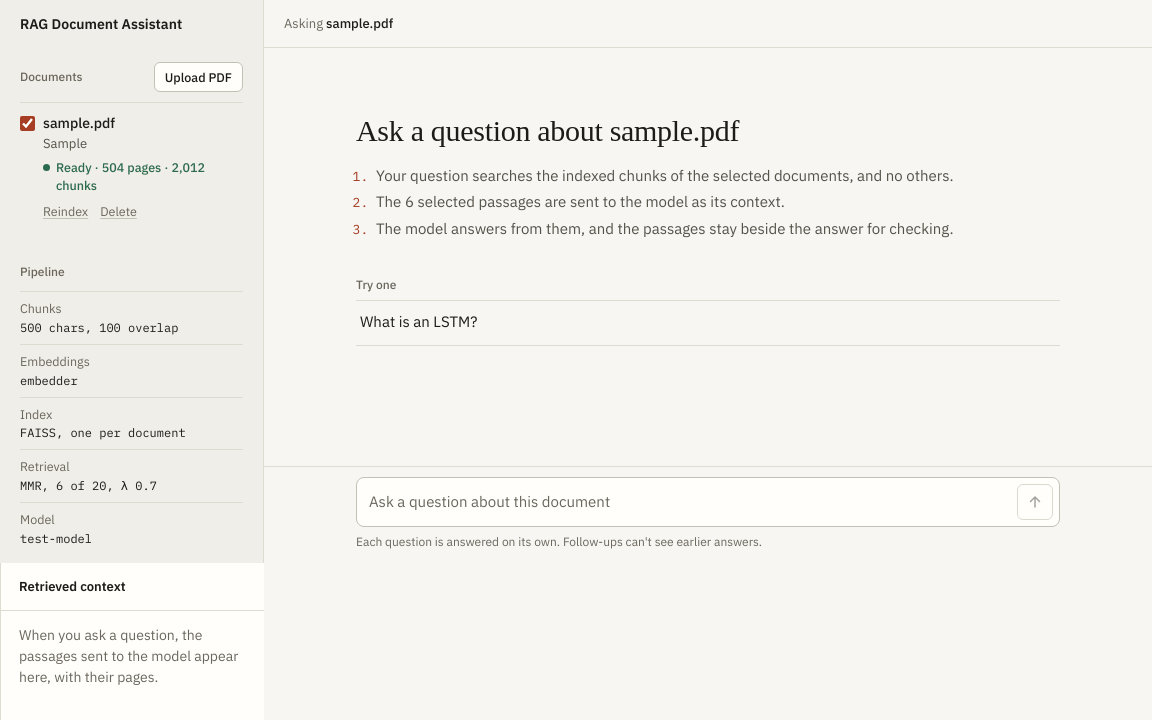
Test case: App › presents the refusal as not found, with the closest passages
Type "What does it do?" into the text box named "Question about the document" at (689, 502), box [369,484,1009,520]
Then press Enter
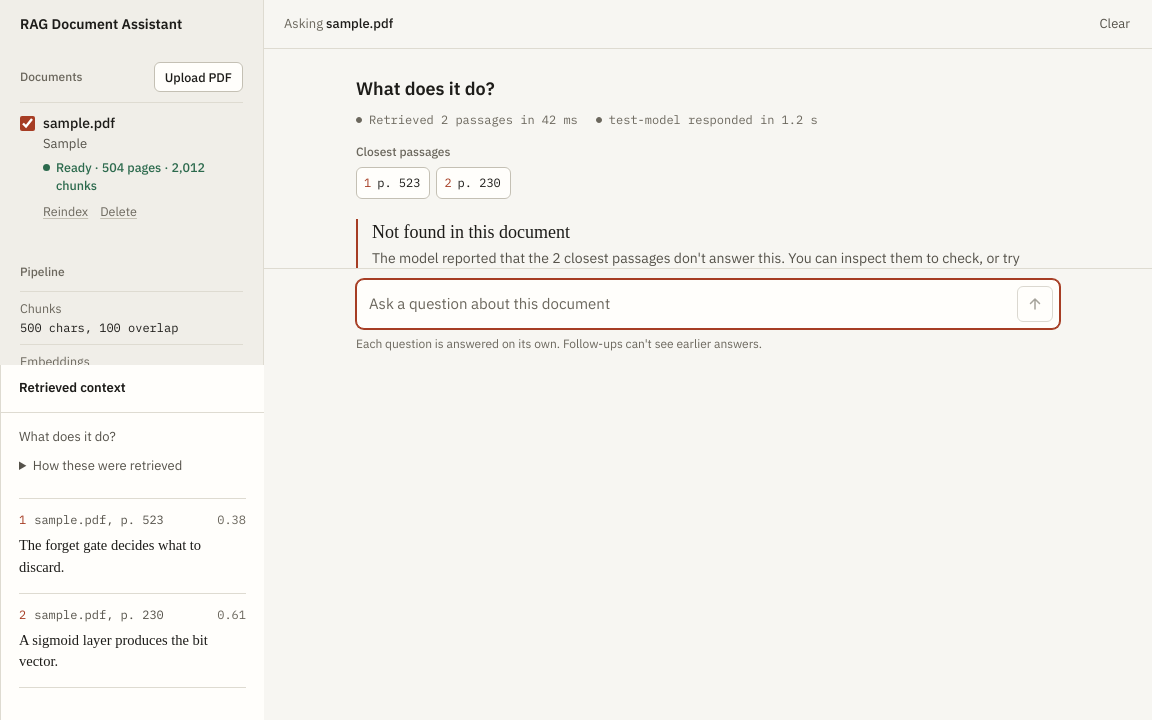
Now the text "Not found in this document" is shown, box [372,222,570,242]
Now the text "Closest passages" is shown, box [356,144,450,159]
